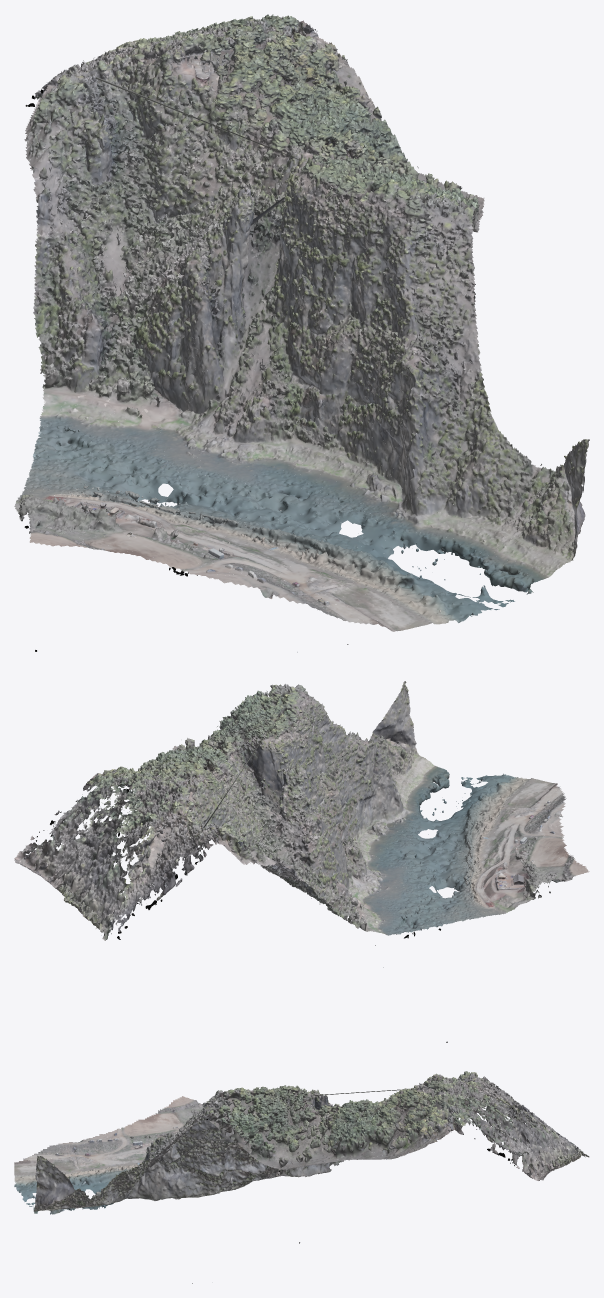
Rendered from seondol.glb.
3 renders of one model, top to bottom at view 1: azimuth 30°, elevation 25°; view 2: azimuth 150°, elevation 25°; view 3: azimuth 270°, elevation 25°, orthographic. The views are drawn at different scales.
Parts seen in each view (by area): view 1: Object_3, Object_10, Object_11, Object_7, Object_2, Object_4, Object_6, Object_12, Object_13, Object_5, Object_8, Object_9; view 2: Object_3, Object_11, Object_10, Object_9, Object_8, Object_7, Object_2, Object_4, Object_5, Object_12, Object_13, Object_6; view 3: Object_3, Object_11, Object_5, Object_6, Object_2, Object_8, Object_9, Object_7, Object_12, Object_13, Object_4, Object_10.
Boxes of the visible parts, bbox=[...] form: Object_3: bbox=[22, 213, 585, 624]; Object_10: bbox=[20, 74, 358, 531]; Object_11: bbox=[14, 329, 589, 602]; Object_7: bbox=[33, 56, 499, 631]; Object_2: bbox=[121, 118, 483, 428]; Object_4: bbox=[26, 16, 358, 420]; Object_6: bbox=[202, 122, 484, 415]; Object_12: bbox=[25, 16, 478, 316]; Object_13: bbox=[19, 14, 573, 652]; Object_5: bbox=[38, 29, 482, 298]; Object_8: bbox=[28, 14, 388, 287]; Object_9: bbox=[36, 32, 377, 119]; Object_3: bbox=[272, 709, 586, 935]; Object_11: bbox=[343, 681, 589, 914]; Object_10: bbox=[141, 759, 501, 938]; Object_9: bbox=[14, 763, 204, 927]; Object_8: bbox=[52, 751, 310, 939]; Object_7: bbox=[176, 751, 566, 913]; Object_2: bbox=[170, 686, 361, 910]; Object_4: bbox=[75, 751, 389, 934]; Object_5: bbox=[27, 684, 323, 924]; Object_12: bbox=[17, 685, 326, 940]; Object_13: bbox=[63, 684, 550, 1042]; Object_6: bbox=[168, 717, 351, 878]; Object_3: bbox=[14, 1099, 343, 1214]; Object_11: bbox=[29, 1096, 235, 1214]; Object_5: bbox=[176, 1080, 581, 1177]; Object_6: bbox=[160, 1086, 351, 1180]; Object_2: bbox=[153, 1086, 359, 1185]; Object_8: bbox=[352, 1075, 588, 1171]; Object_9: bbox=[377, 1080, 567, 1180]; Object_7: bbox=[14, 1077, 485, 1203]; Object_12: bbox=[190, 1072, 589, 1179]; Object_13: bbox=[22, 1075, 562, 1283]; Object_4: bbox=[345, 1073, 490, 1160]; Object_10: bbox=[226, 1071, 479, 1191].
Size of the model in its own units: 347 by 258 by 559.
